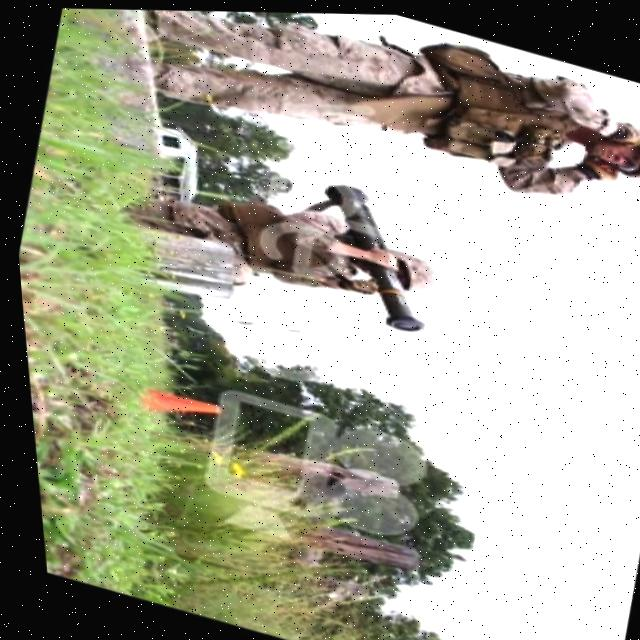rocket: (278, 170, 453, 338)
